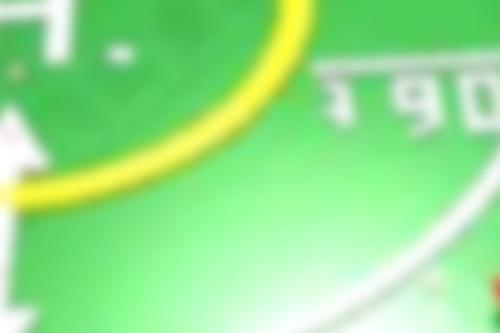Apron: (1, 1, 317, 211)
